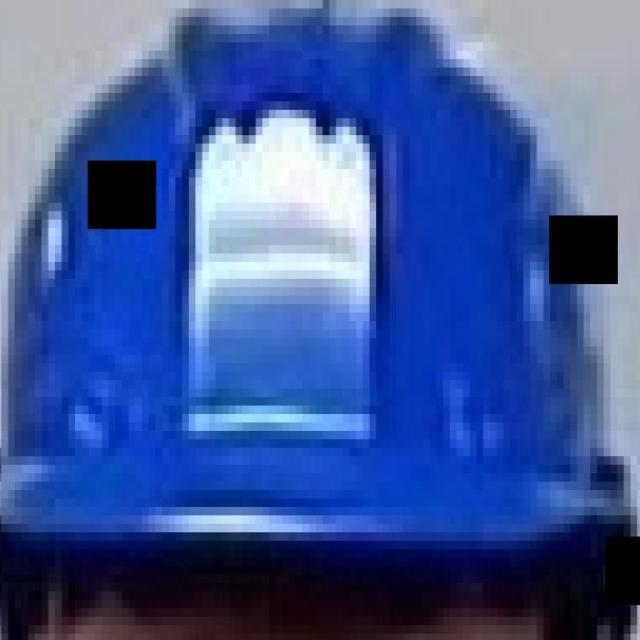blue helmet: (7, 22, 617, 543)
